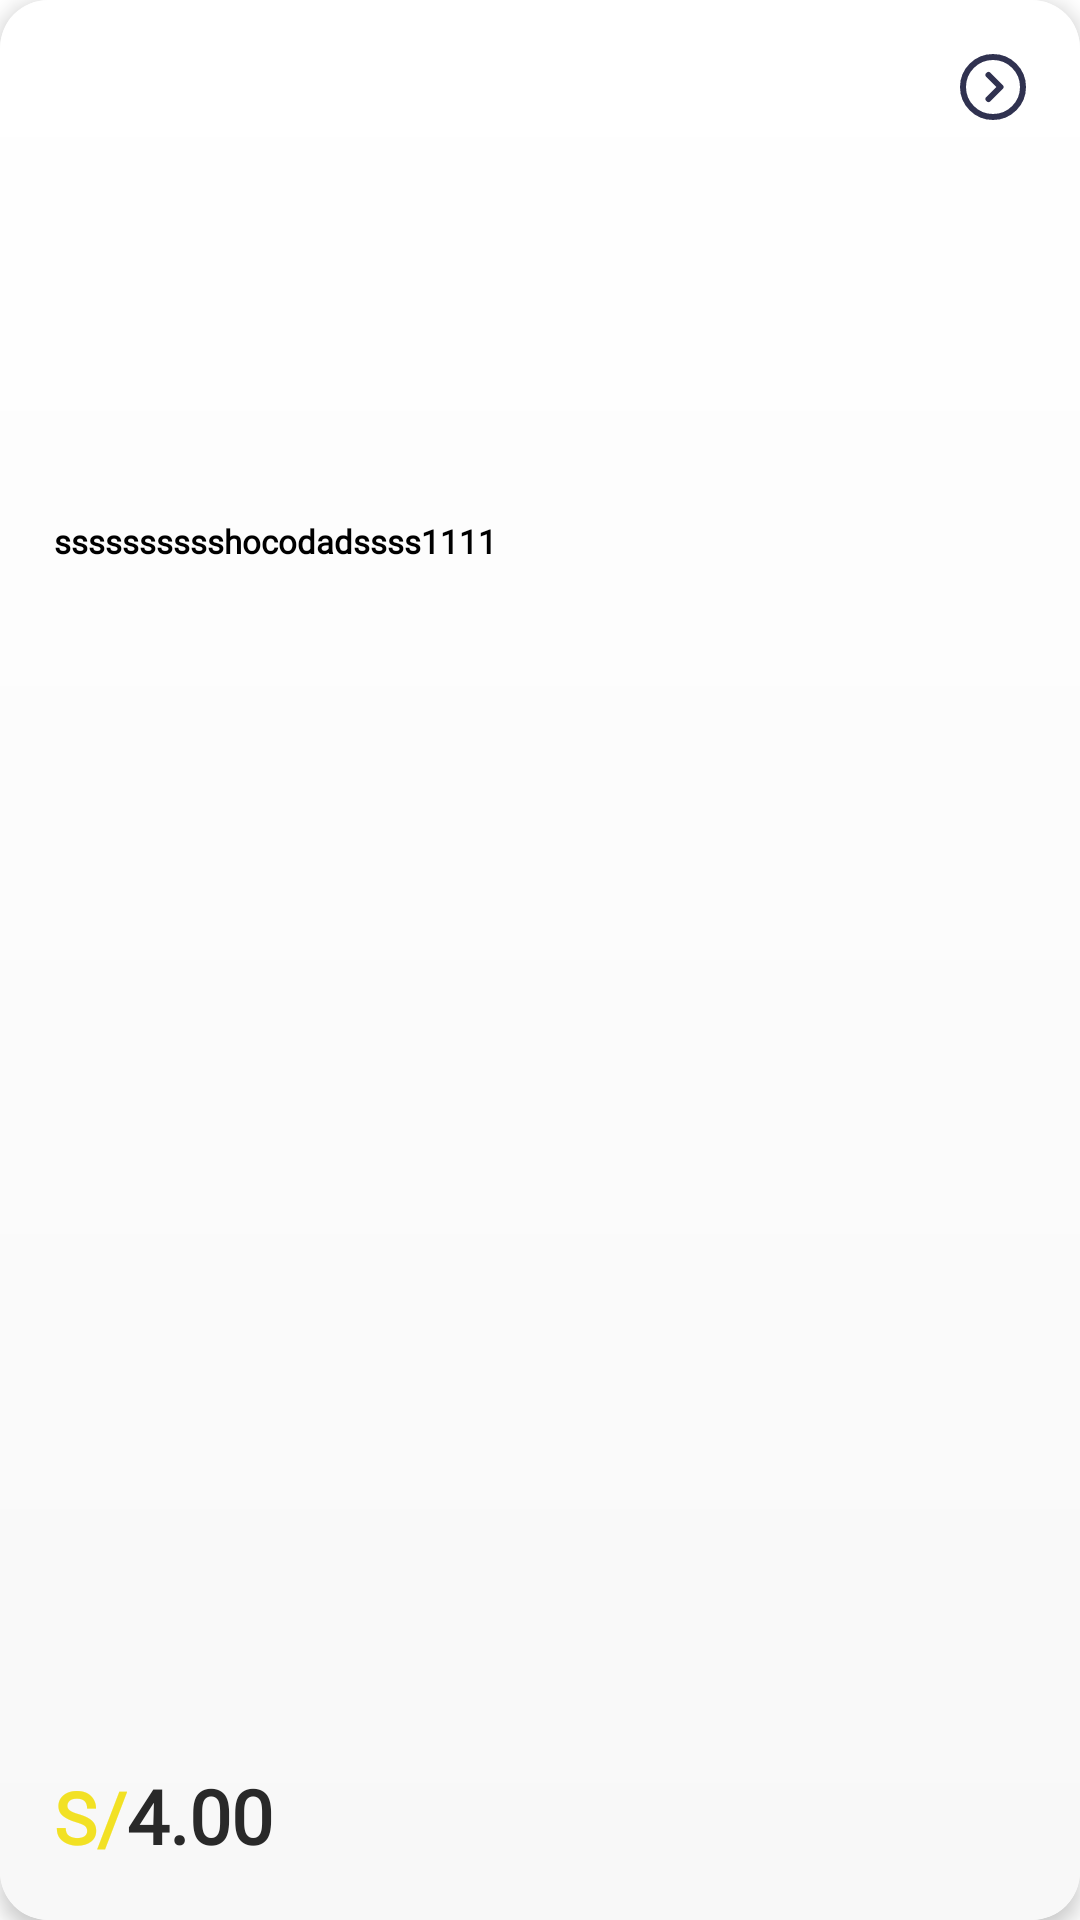

Where to tap for icons on this 1080px×1920px app screen, as [x,y]:
circlearrow: [993,87]
